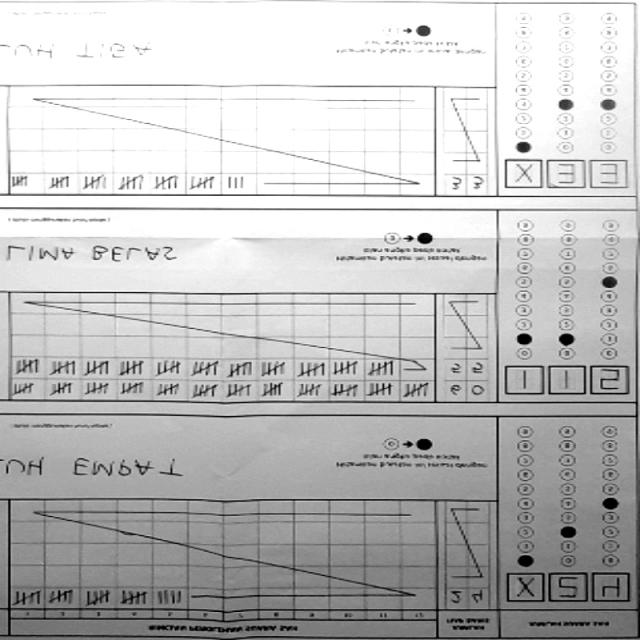Suara: (498, 568, 633, 607), (498, 155, 632, 193), (496, 360, 631, 396)
